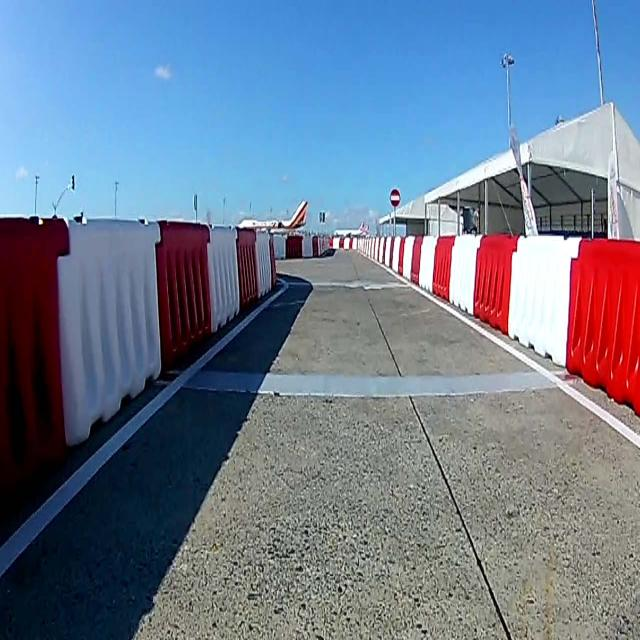girisyok: (389, 188, 401, 208)
